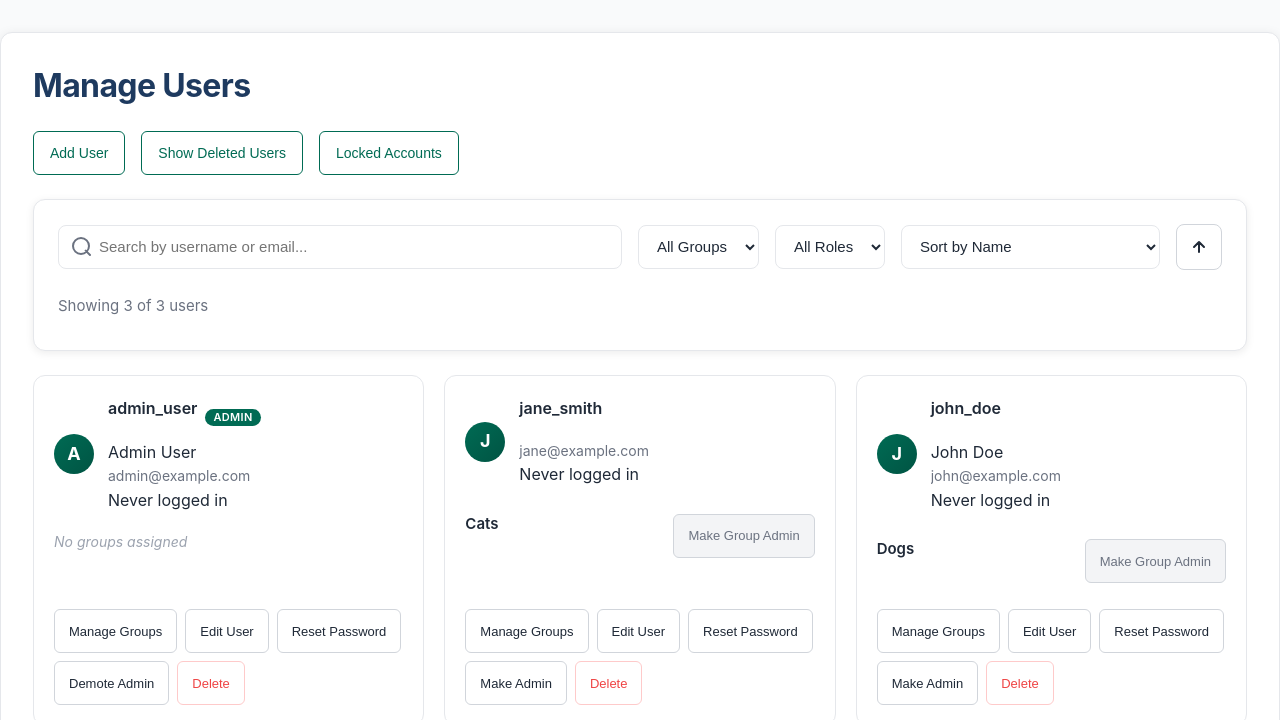
Test: UsersPage › Create User form — structure › renders username, first name, last name, and email fields
The width and height of the screenshot is (1280, 720).
Click the button "Add User" at (79,153), box [33,131,125,175]
(page scrolled)
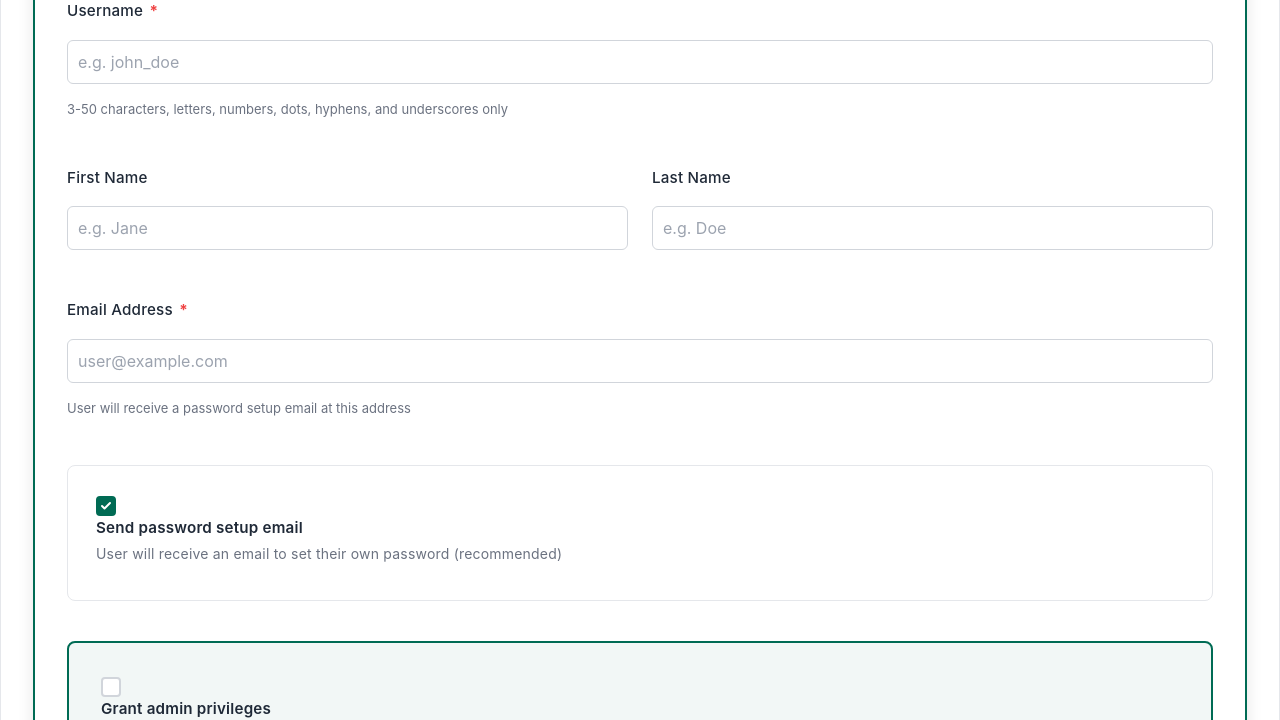
Result: the field labelled "Username *" is shown at [67,40,1213,84]
Result: the field labelled "First Name" is shown at [67,206,628,250]
Result: the field labelled "Last Name" is shown at [652,206,1213,250]
